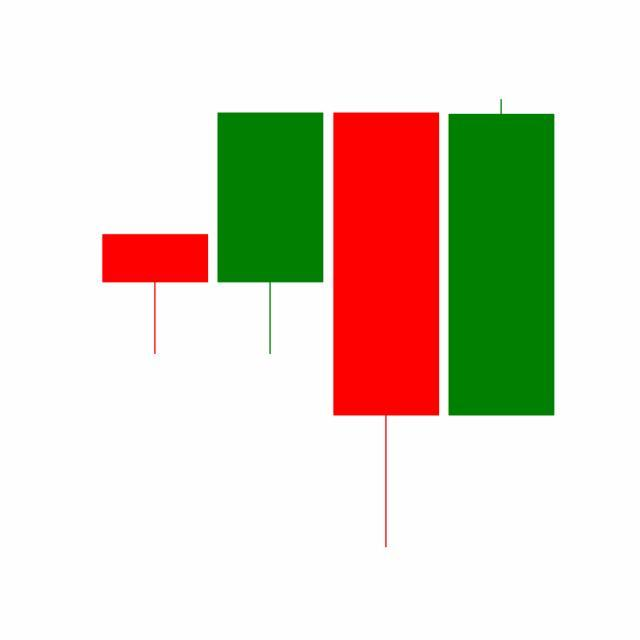Marubozu: (444, 96, 560, 419)
